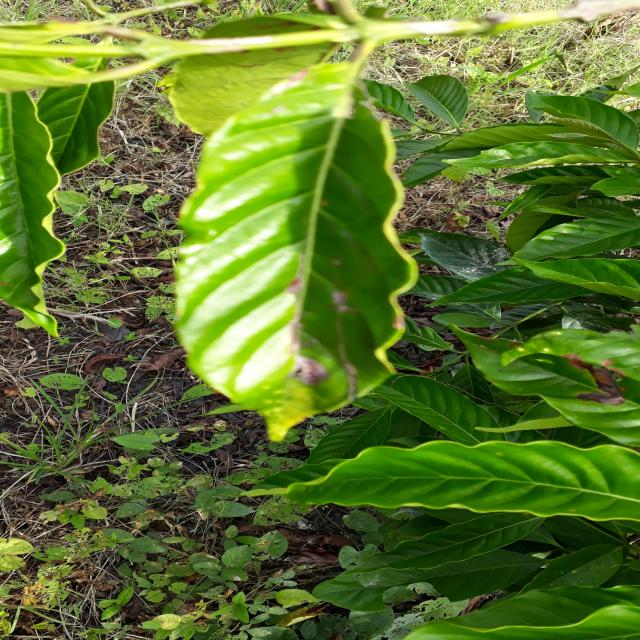Enfermedad-Roya: (174, 42, 418, 443)
